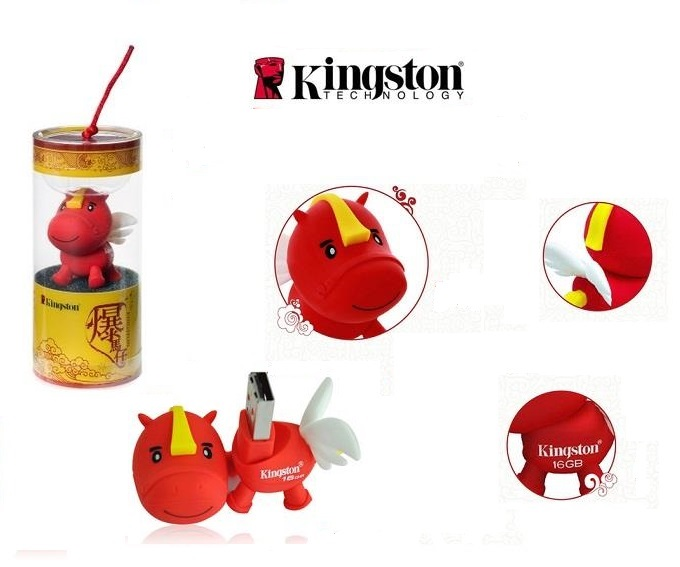Kingston: (235, 41, 479, 111)
